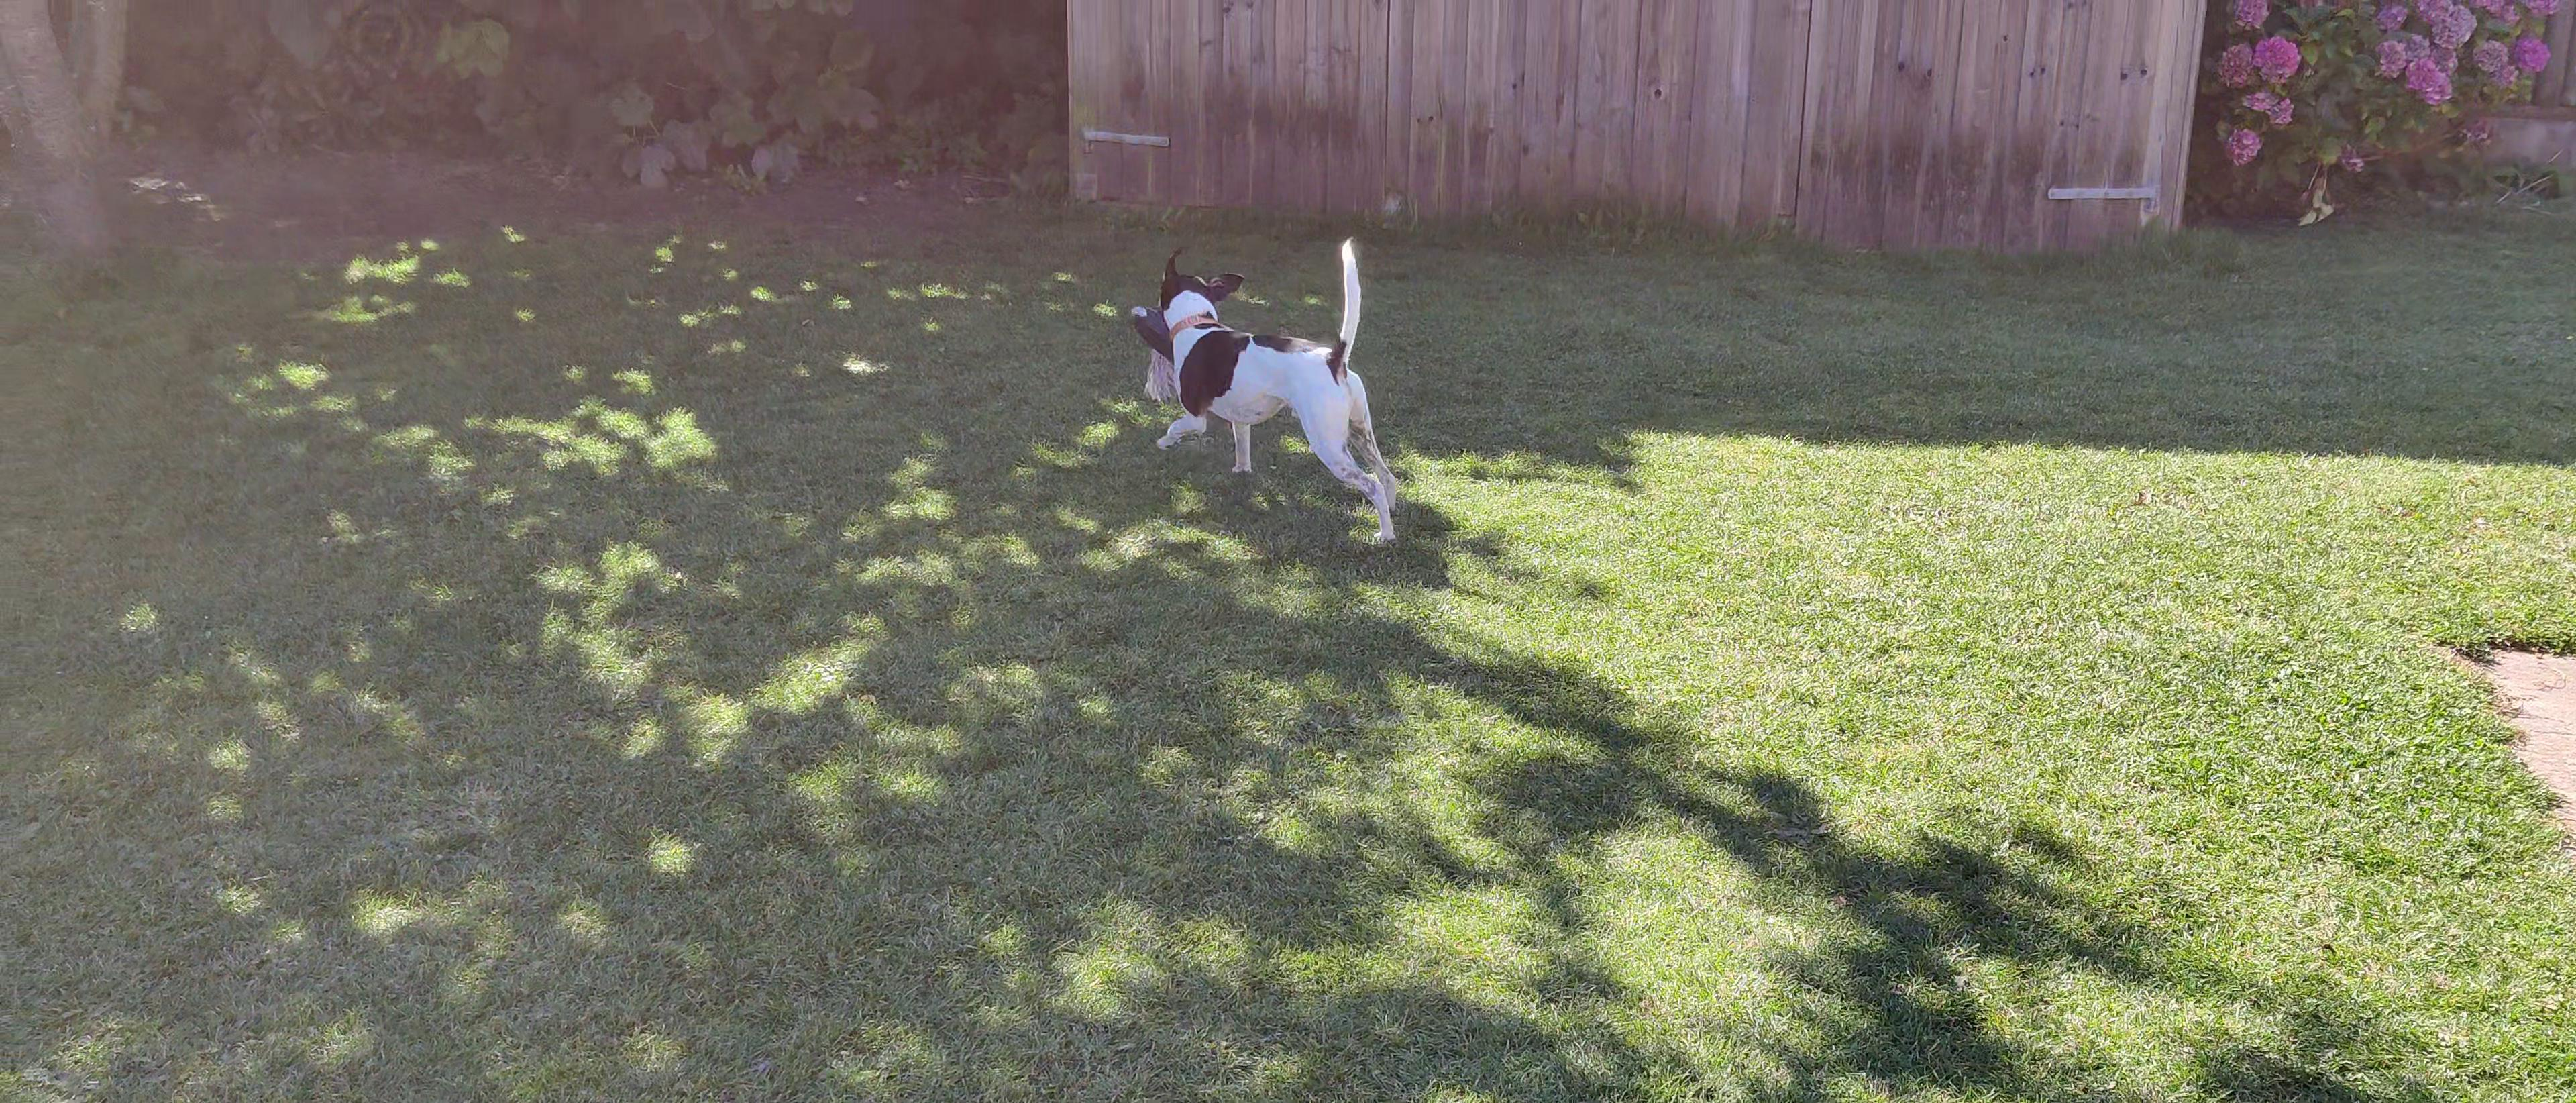Dog: (1148, 224, 1403, 562)
